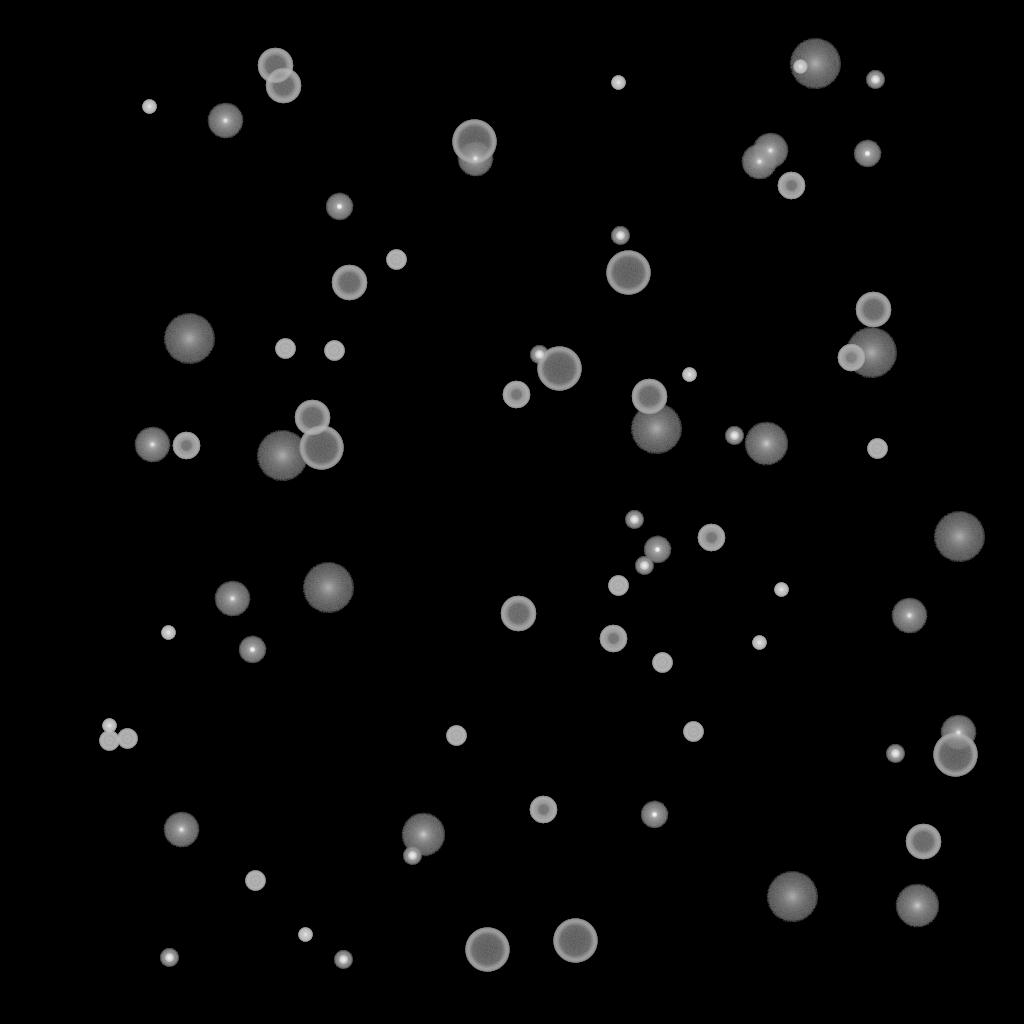depth:-10: (325, 193, 353, 221), (640, 801, 668, 829), (853, 140, 881, 168), (643, 536, 671, 564), (238, 636, 266, 664)
depth:-20: (886, 745, 904, 763), (530, 346, 548, 364), (403, 847, 421, 865), (625, 511, 643, 529), (635, 557, 653, 575), (866, 71, 884, 89), (160, 949, 178, 967), (334, 951, 352, 969), (611, 227, 629, 245), (725, 427, 743, 445)
depth:-30: (682, 368, 696, 382), (298, 928, 312, 942), (793, 60, 807, 74), (102, 719, 116, 733), (161, 626, 175, 640), (774, 583, 788, 597), (611, 76, 625, 90), (142, 100, 156, 114), (752, 636, 766, 650)
depth:-40: (652, 653, 672, 673), (867, 439, 887, 459), (324, 341, 344, 361), (99, 731, 119, 751), (117, 729, 137, 749), (275, 339, 295, 359), (446, 726, 466, 746), (245, 871, 265, 891), (608, 576, 628, 596), (683, 722, 703, 742), (386, 250, 406, 270)
depth:-50: (172, 432, 200, 460), (502, 381, 530, 409), (837, 344, 865, 372), (777, 172, 805, 200), (599, 625, 627, 653), (697, 524, 725, 552), (529, 796, 557, 824)
depth:-60: (294, 400, 330, 436), (855, 292, 891, 328), (265, 68, 301, 104), (500, 596, 536, 632), (631, 379, 667, 415), (905, 824, 941, 860), (257, 48, 293, 84), (331, 265, 367, 301)
depth:-70: (606, 251, 650, 295), (299, 426, 343, 470), (933, 733, 977, 777), (452, 120, 496, 164), (553, 919, 597, 963), (537, 347, 581, 391), (465, 928, 509, 972)
depth:0: (752, 133, 788, 169), (457, 141, 493, 177), (214, 581, 250, 617), (741, 144, 777, 180), (134, 427, 170, 463), (891, 598, 927, 634), (163, 812, 199, 848), (940, 715, 976, 751), (207, 103, 243, 139)
depth:10: (401, 813, 445, 857), (895, 884, 939, 928), (744, 422, 788, 466)
depth:20: (845, 328, 897, 378), (933, 512, 985, 562), (766, 872, 818, 922), (163, 314, 215, 364), (630, 404, 682, 454), (789, 39, 841, 89), (256, 431, 308, 481), (302, 563, 354, 613)
